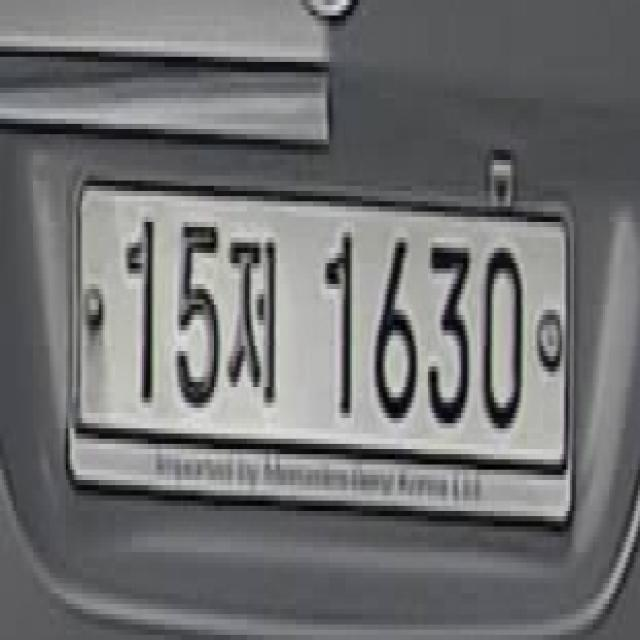0: (473, 232, 529, 434)
1: (119, 212, 167, 408), (321, 217, 362, 428)
3: (420, 222, 473, 428)
5: (171, 212, 226, 418)
6: (368, 222, 422, 428)
jeo: (224, 227, 282, 423)
license_plate: (62, 150, 578, 552)
